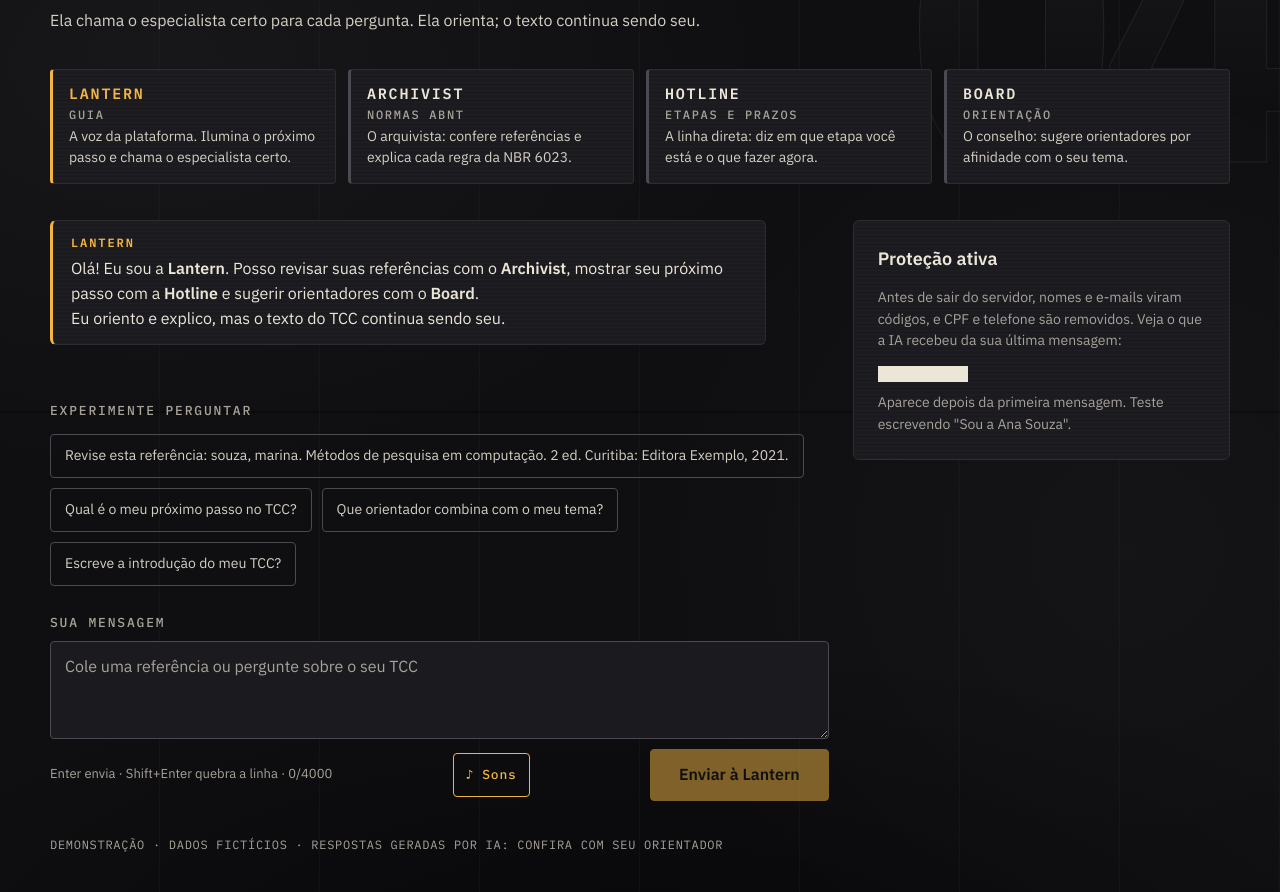
Scenario: Tela da Lantern › mostra o erro como alerta e devolve o texto ao campo para tentar de novo
(page scrolled)
Type "Qual é o prazo?" into the text box labelled "Sua mensagem" at (439, 690), box [50,640,829,738]
Then press Enter
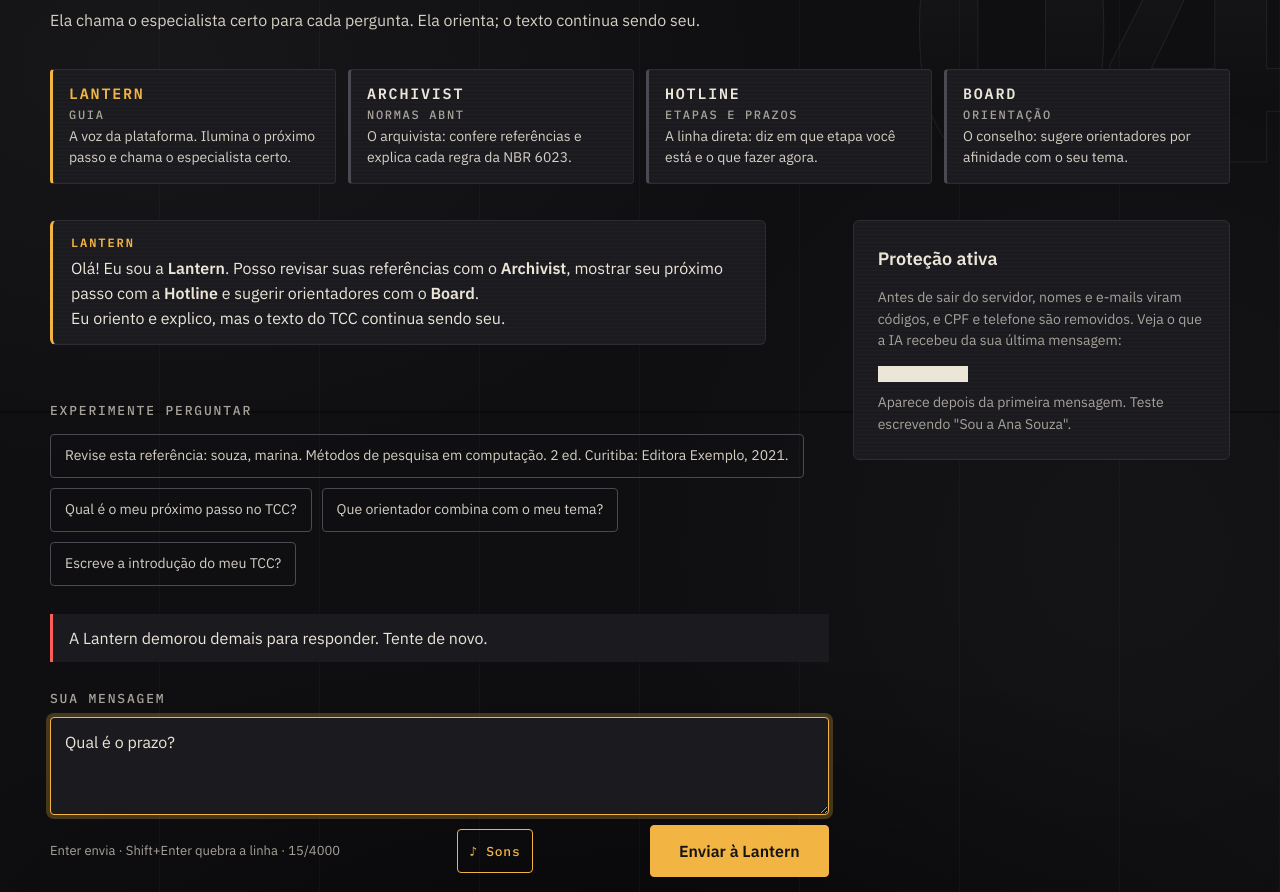
Check: the message shows "demorou demais", box [69,628,488,648]
